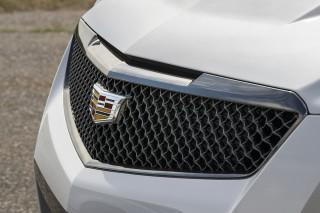cadillac: (87, 78, 130, 126)
